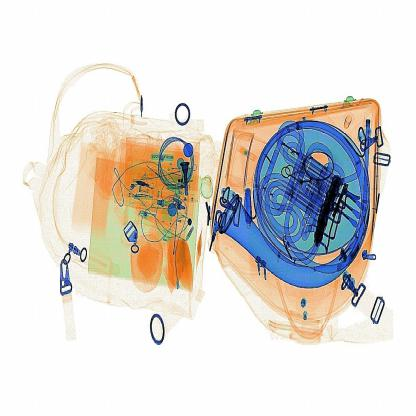knife: (239, 175, 260, 228)
